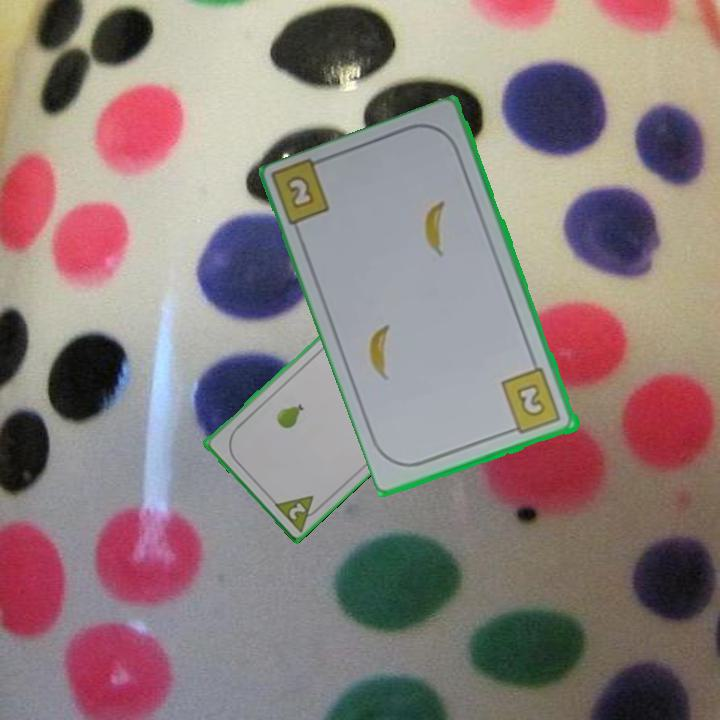2b: (498, 365, 564, 438), (286, 175, 314, 209)
2p: (270, 491, 326, 534)
